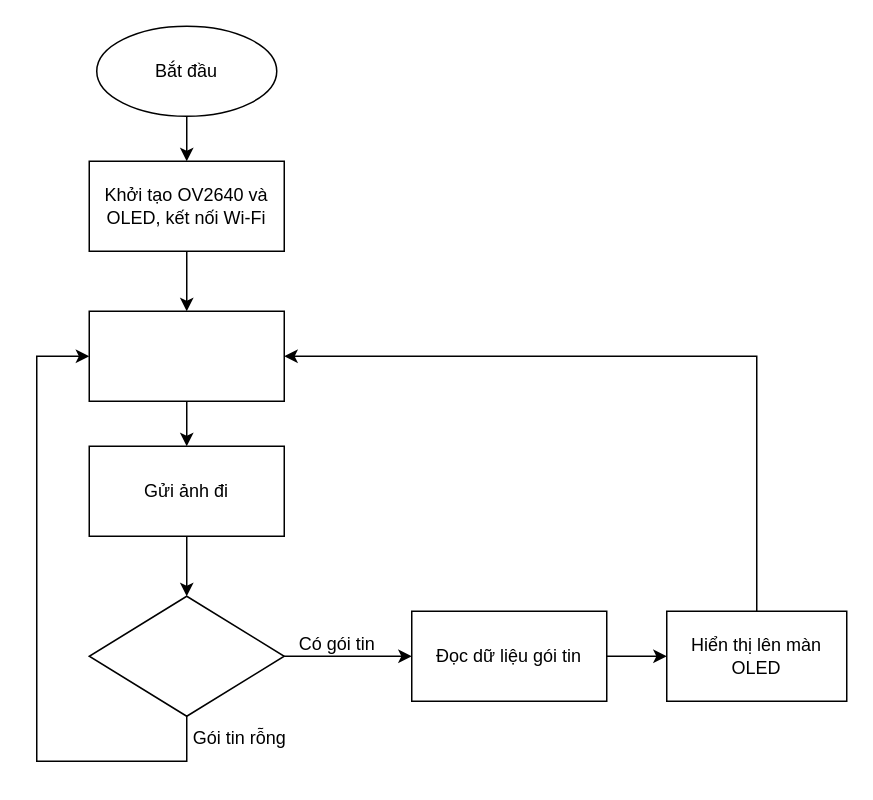
Some shapes in this 873 by 800 pixel diagram are drawn without their labels. Here are the shapes that lost their labels. From the top down, the centre of each, then its label:
point 186,355: Chụp ảnh
point 186,655: Kiểm tra gói tin trả về
